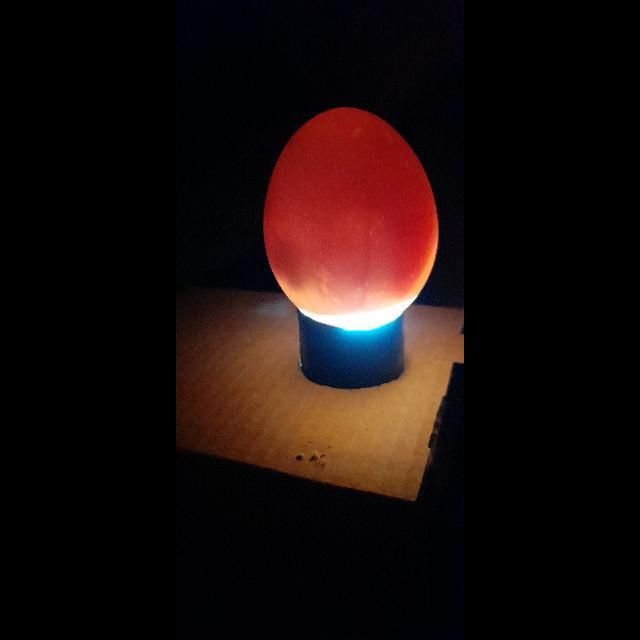Fertile: (265, 102, 445, 328)
